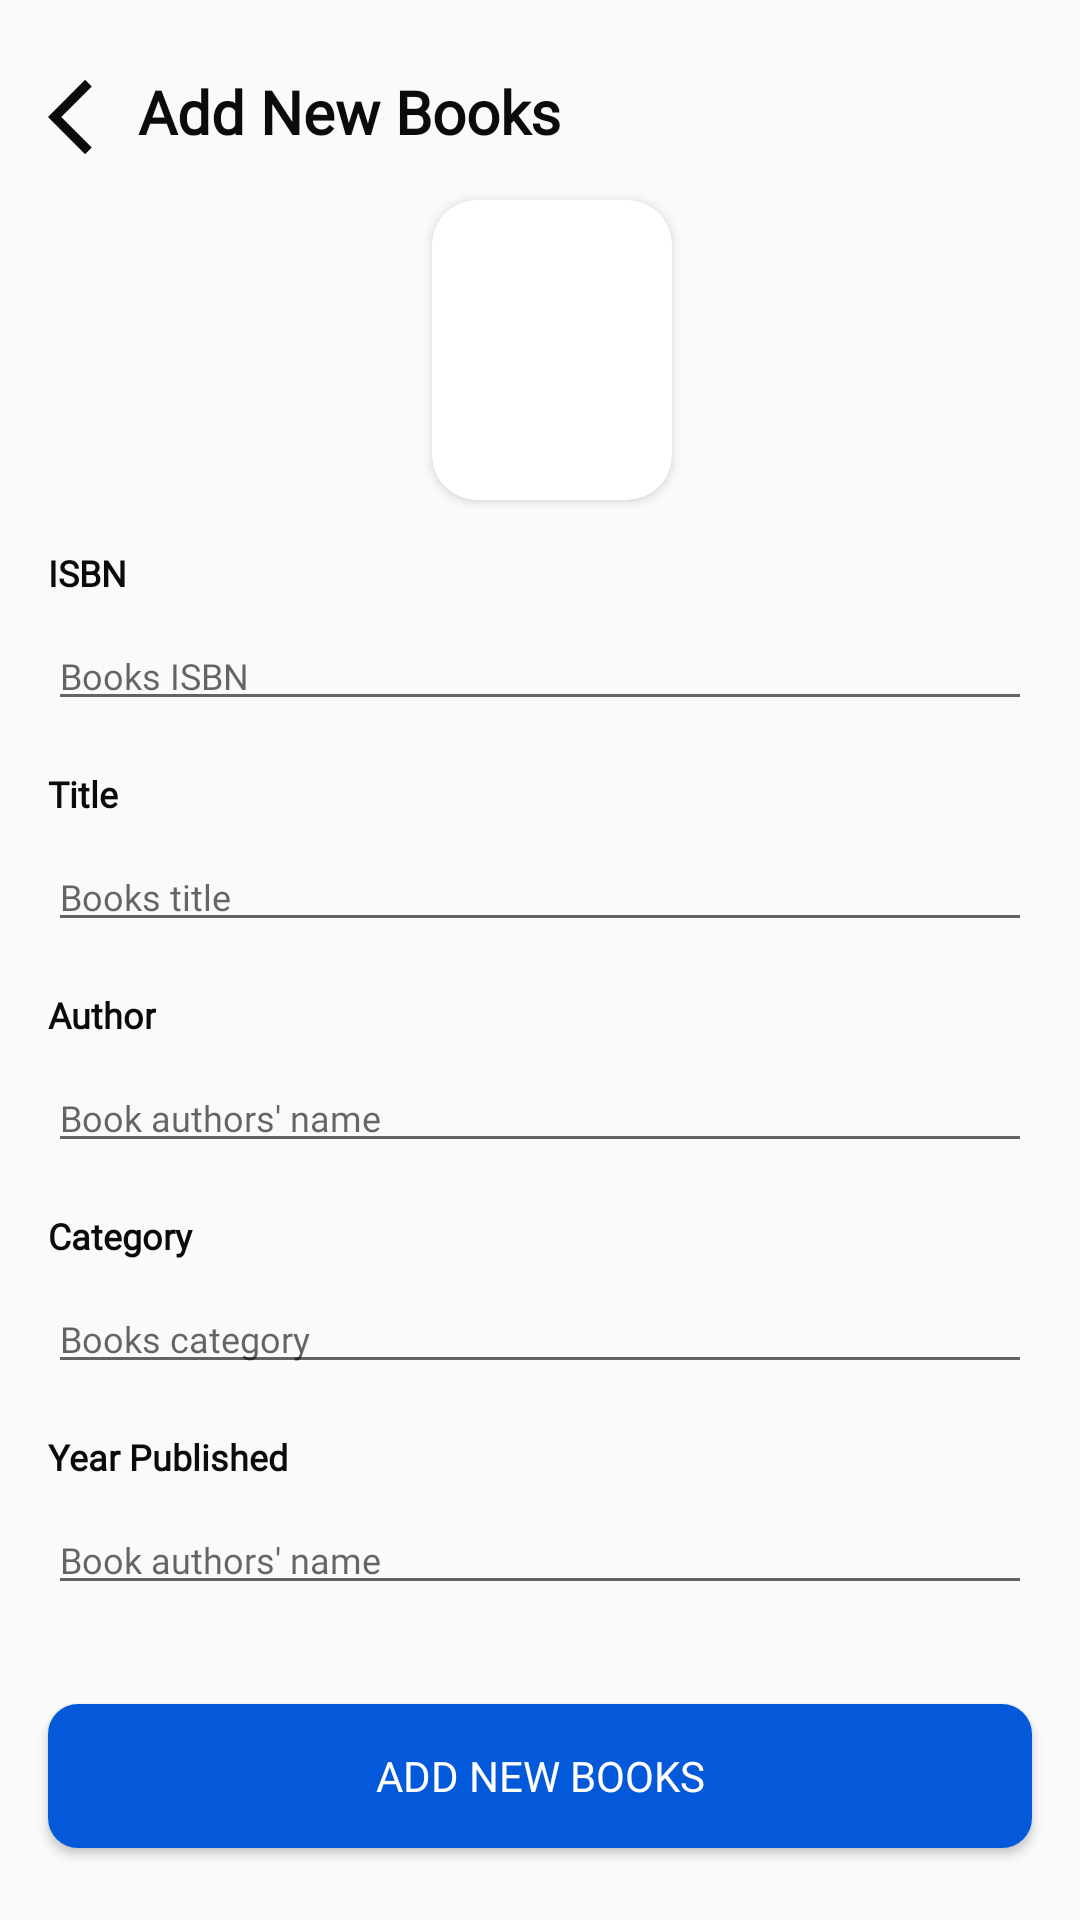

Screen size 1080x1920. Icon name, then its center in pixels as point (x, y):
Back: point (70, 117)
